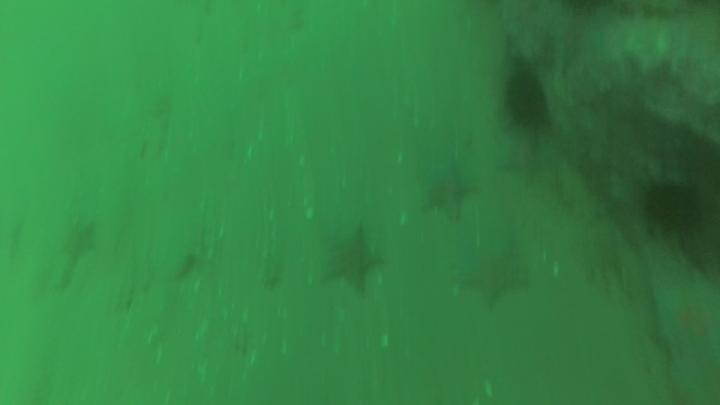echinus: (631, 166, 707, 243), (496, 61, 556, 139)
starfish: (647, 271, 720, 364), (455, 230, 531, 310), (317, 226, 385, 294), (492, 126, 561, 190), (413, 160, 481, 223), (55, 218, 100, 265)
